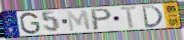5: (40, 10, 62, 34)
D: (141, 4, 165, 29)
G: (19, 12, 42, 36)
M: (65, 9, 93, 33)
P: (90, 7, 114, 32)
T: (119, 5, 140, 30)
